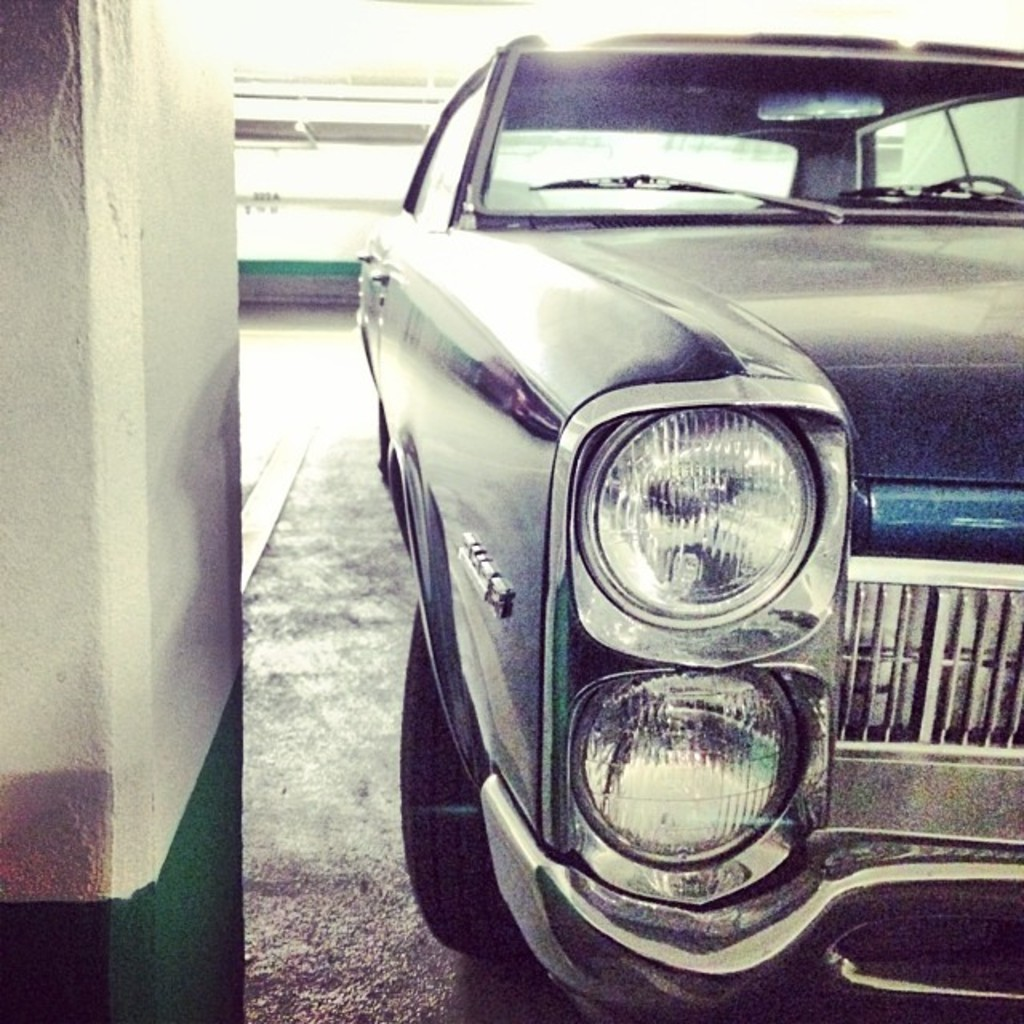Car: (315, 27, 945, 1008)
